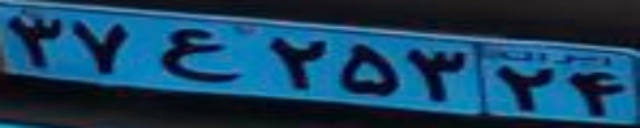2: (266, 37, 330, 89), (493, 65, 557, 113)
3: (406, 49, 471, 102), (7, 15, 68, 68)
4: (566, 70, 627, 118)
5: (340, 43, 402, 96)
7: (71, 19, 128, 74)
ain: (155, 26, 241, 82)
